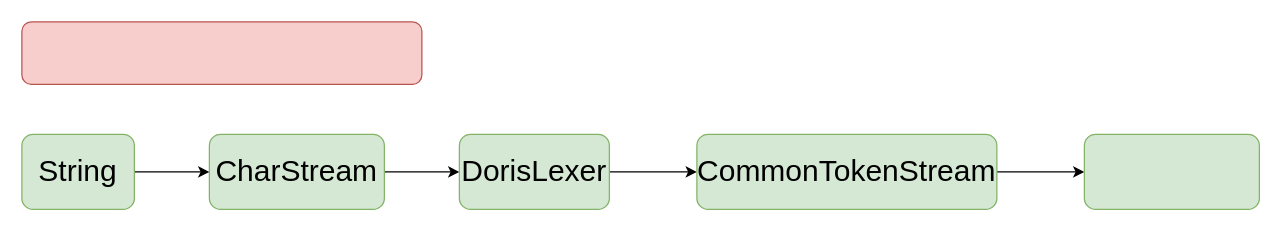
Some shapes in this 1281 by 231 pixel diagram are drawn without their labels. Here are the shapes that lost their labels. From the top down, the centre of each, then its label:
(221,52): ANTLR4 数据类型的转换流程
(1171,171): DorisParser
